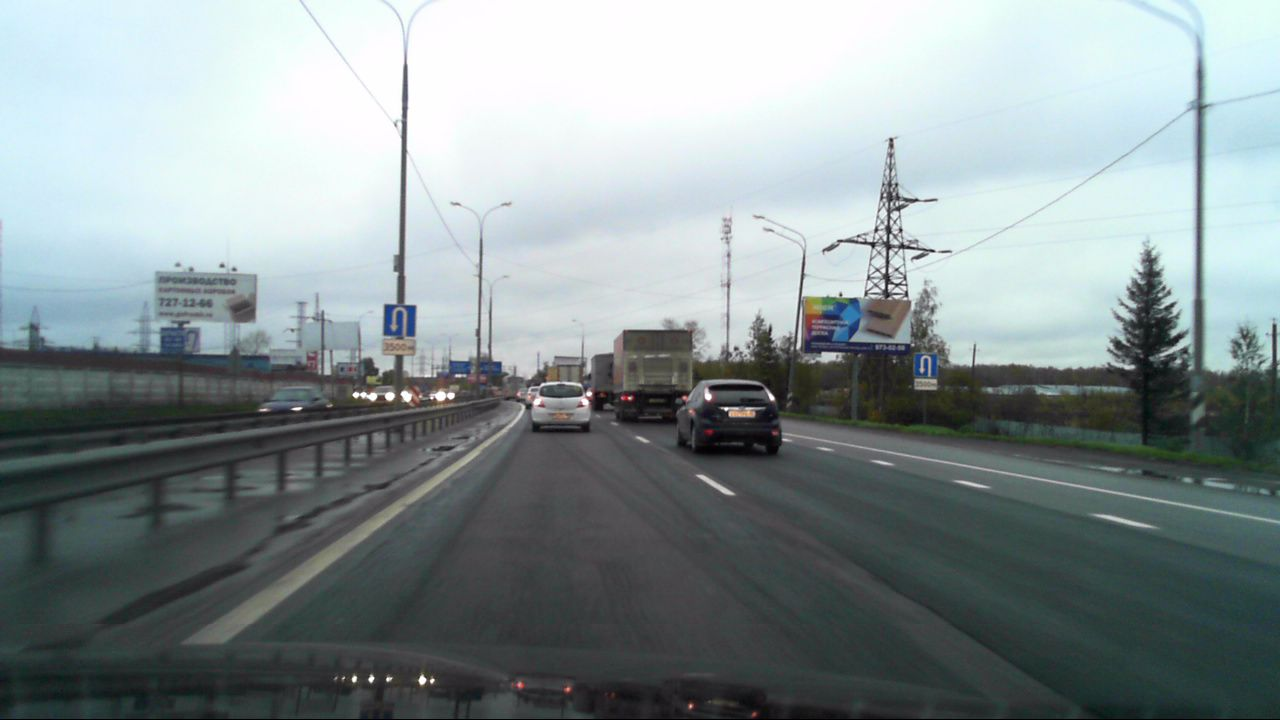U-turn: (384, 304, 416, 338), (913, 353, 938, 378)
